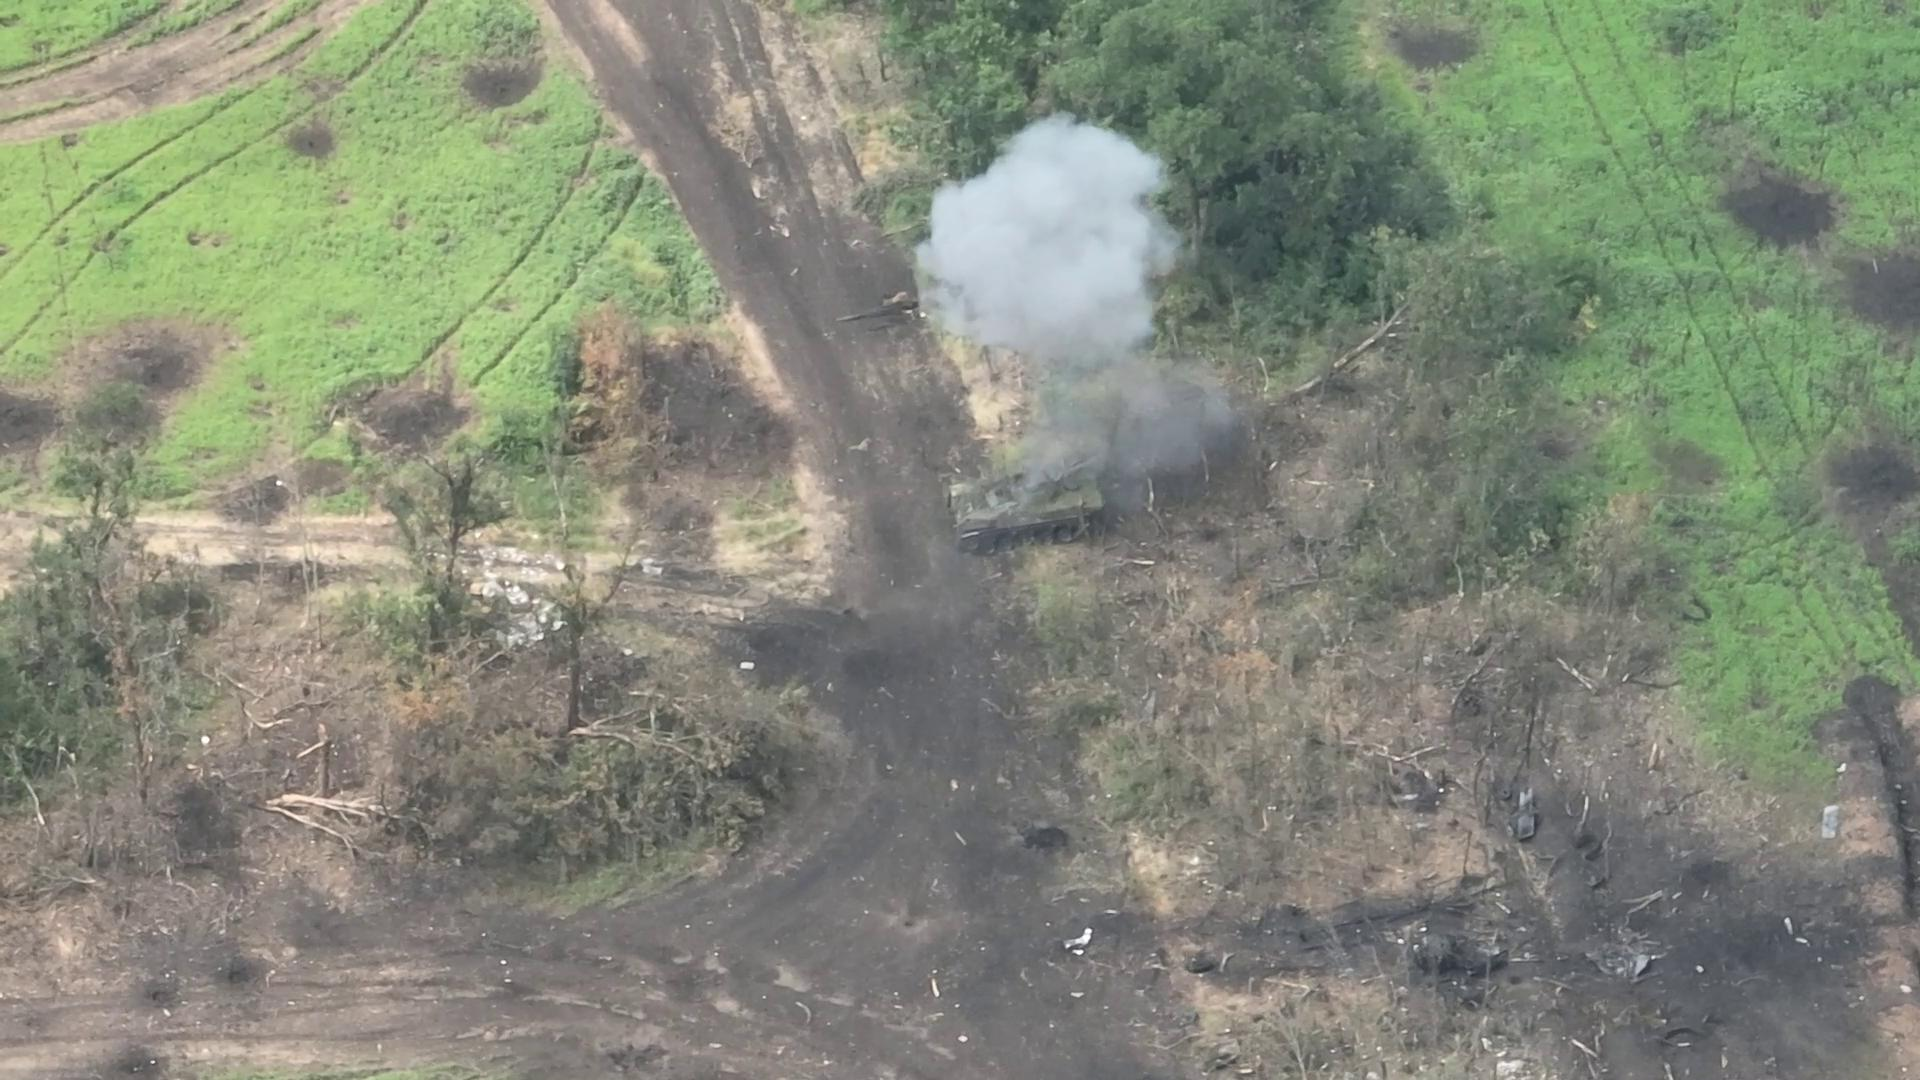tank: (942, 452, 1118, 560)
